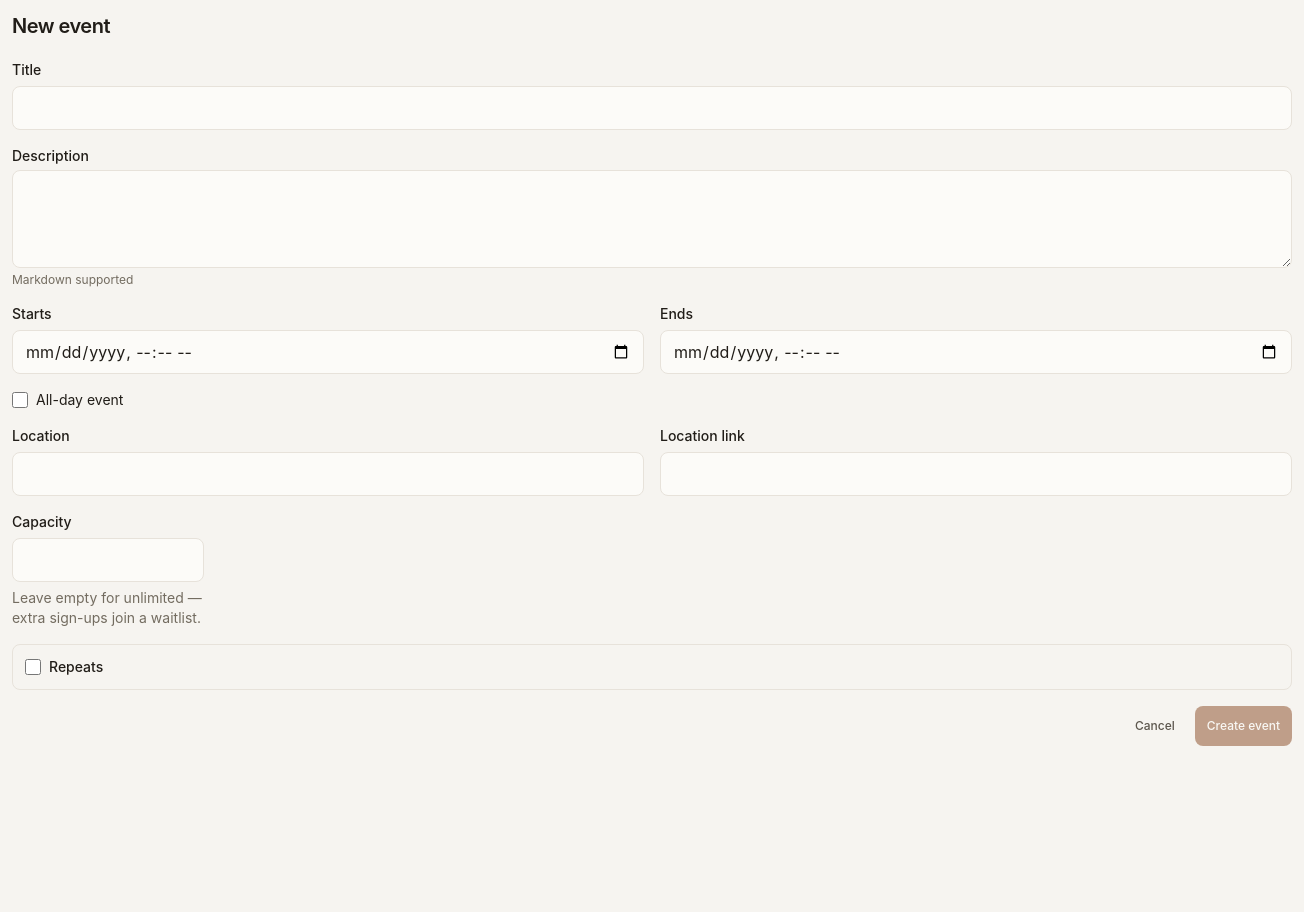
Test: new event page › lights the location-link field when the server rejects a non-http(s) URL, and stays put
Type "Rehearsal" into the field with id "event-form-title" at point(652, 108), box [12,86,1292,130]
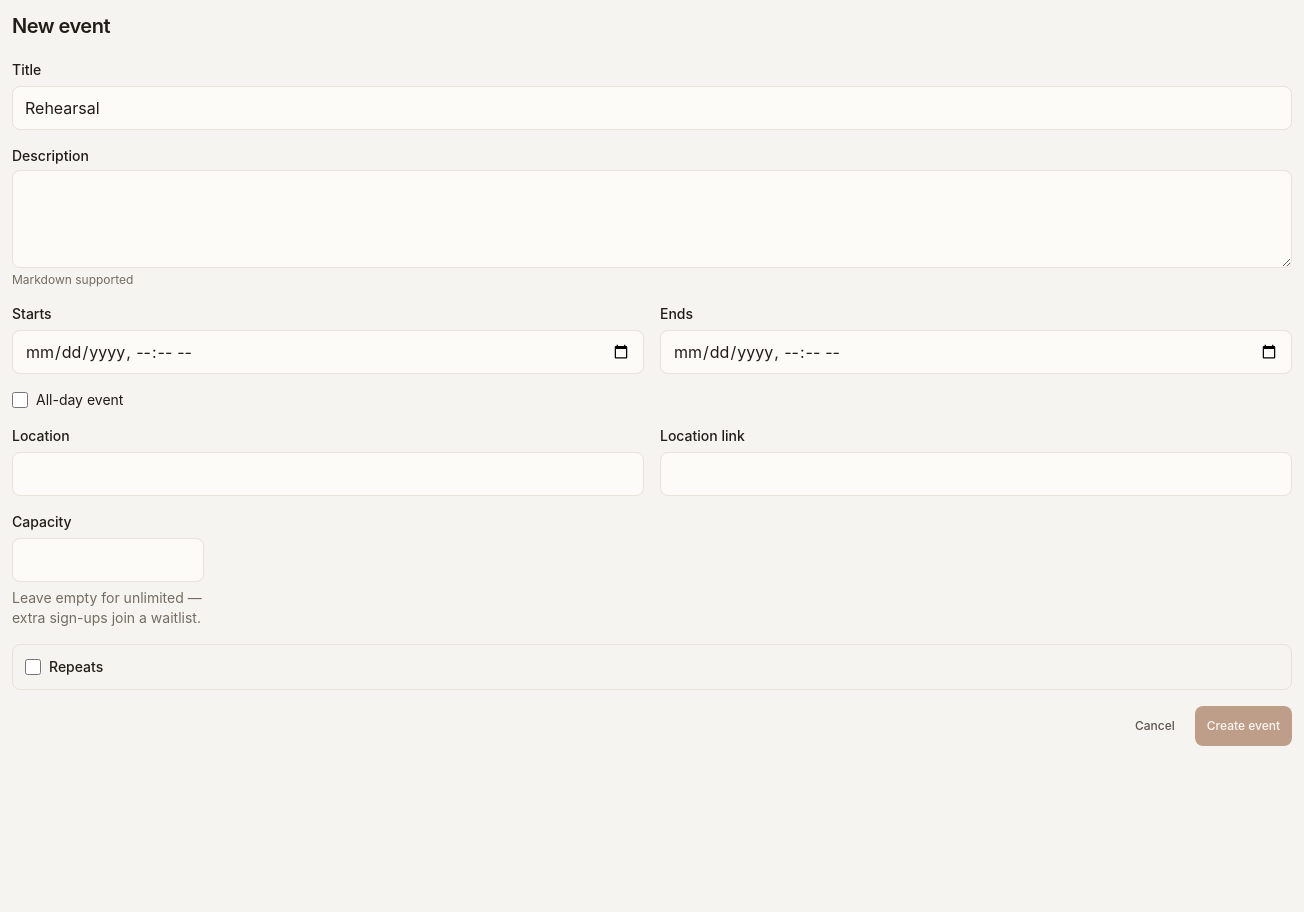
Type "2026-08-01T10:00" into the field with id "event-form-starts-at" at point(328, 352), box [12,330,644,374]
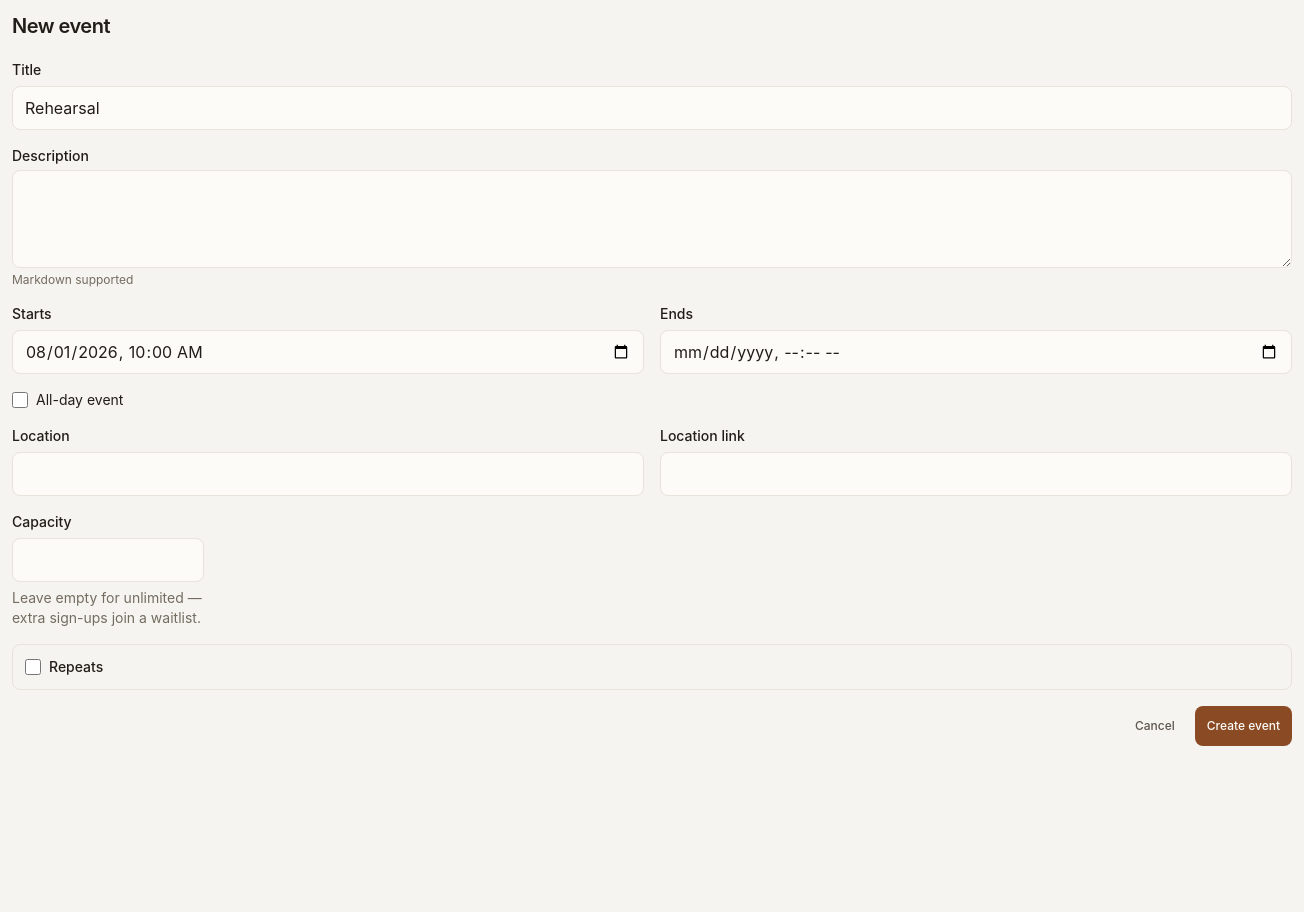
Type "javascript:alert(1)" into the field with id "event-form-location-url" at point(976, 474), box [660,452,1292,496]
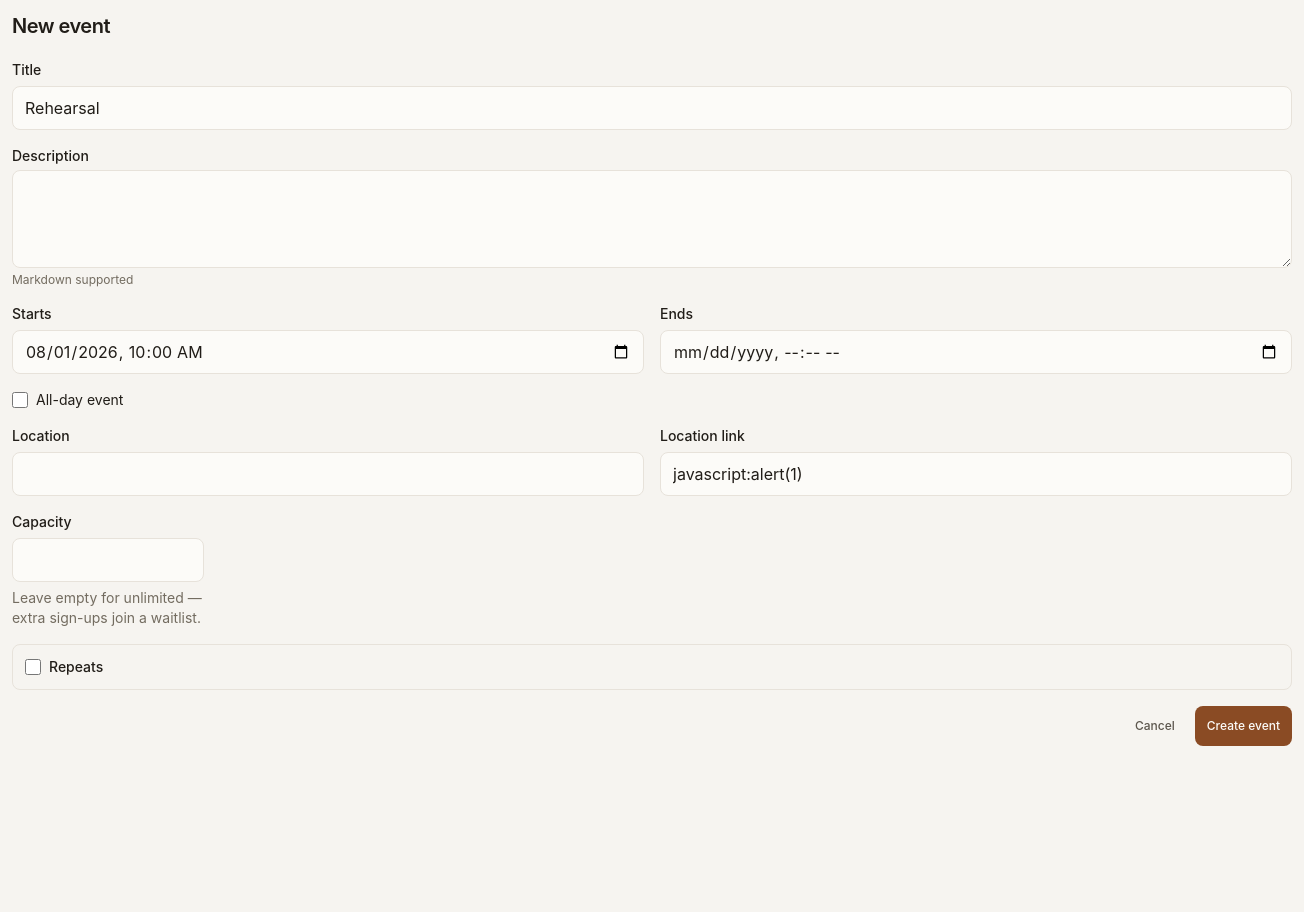
Submit the form with id "event-form"
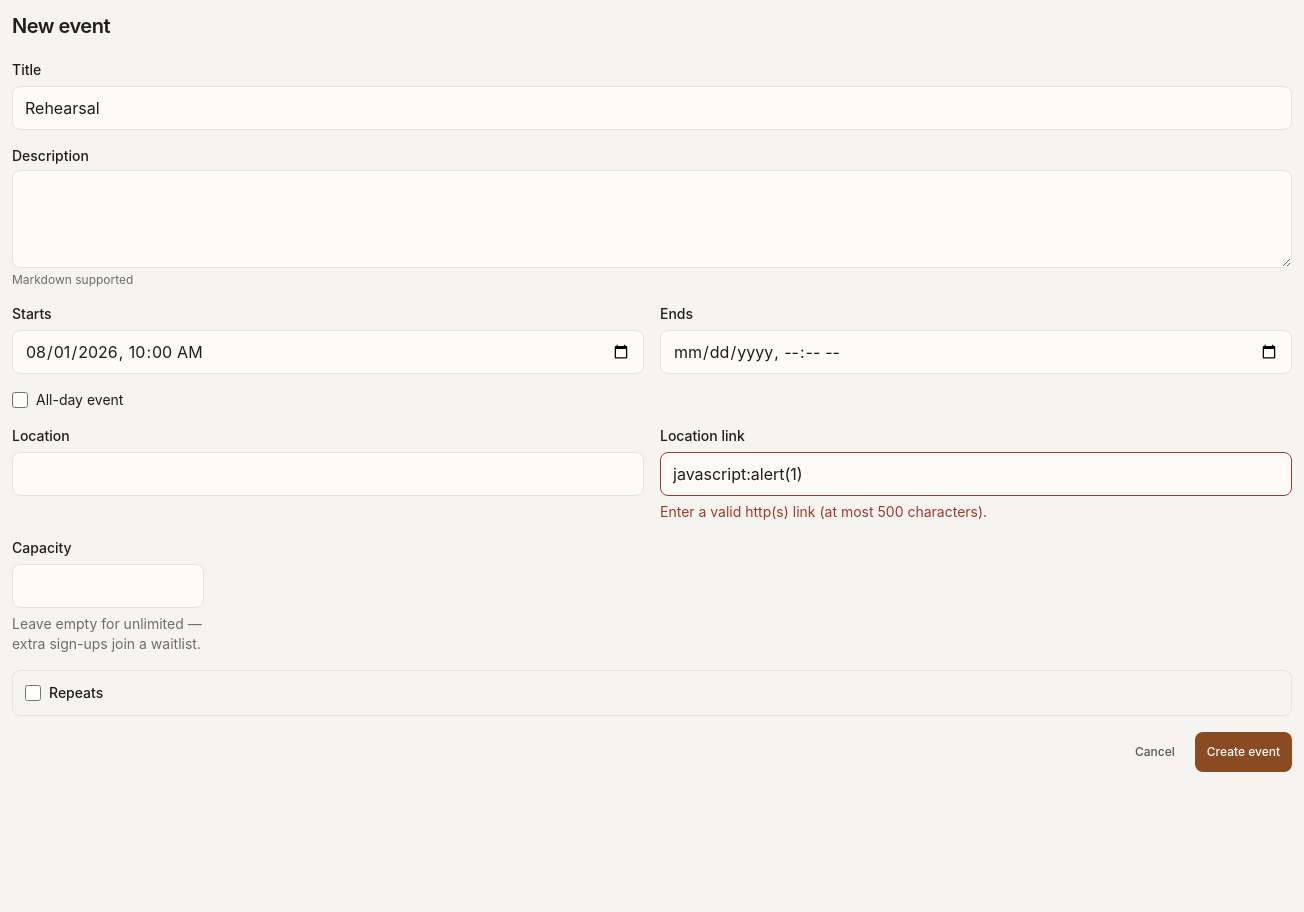
Expected: the text "Enter a valid http(s) link (at most 500 characters)." is shown, [660,503,987,520]
